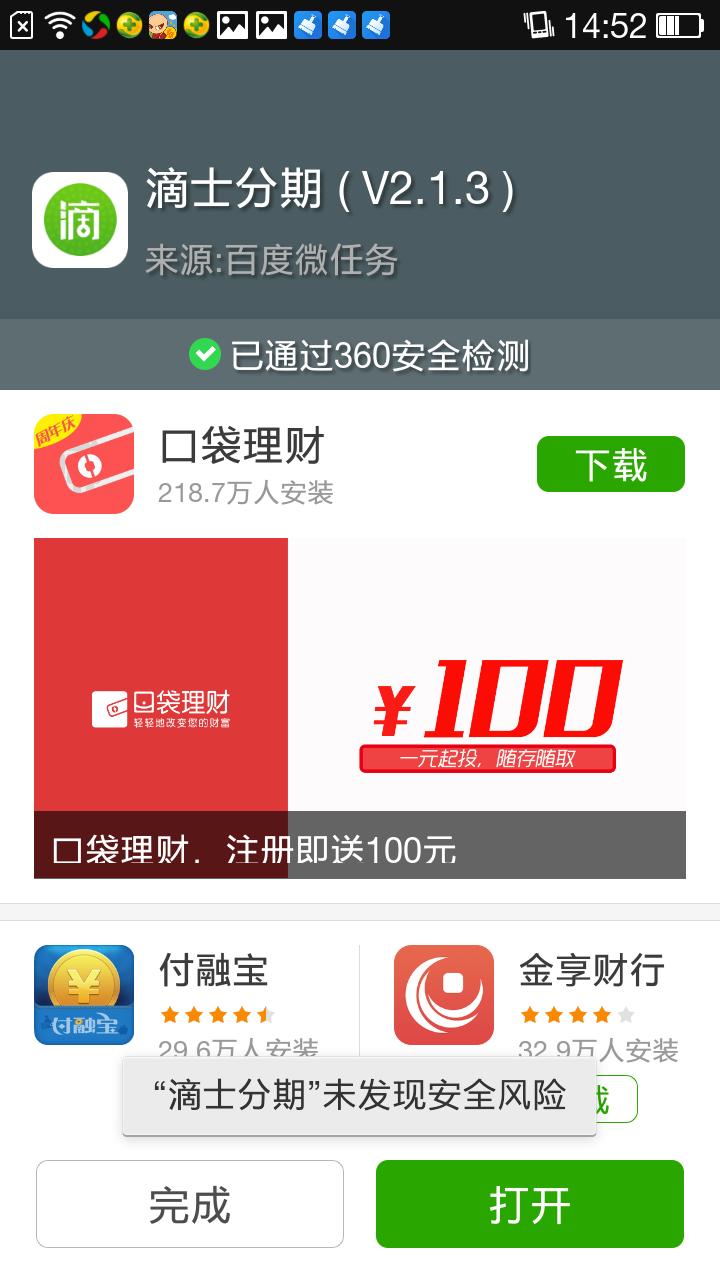alert: (118, 1053, 601, 1139)
button: (374, 1154, 690, 1253), (31, 1156, 349, 1254), (535, 434, 687, 495)
imgview: (31, 533, 691, 882)
textview: (149, 424, 342, 511)
